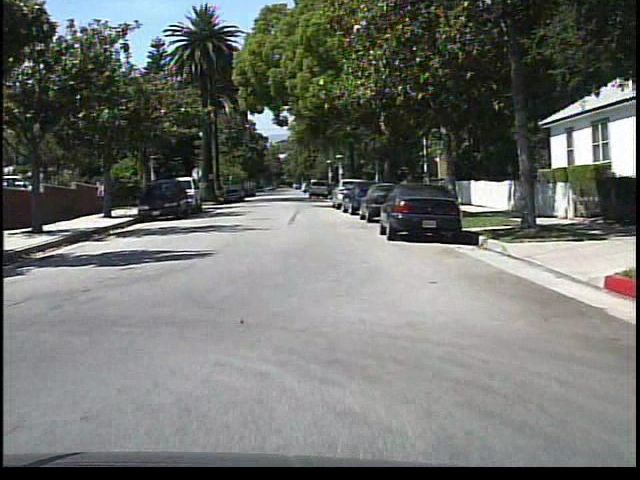person: (93, 177, 110, 216)
